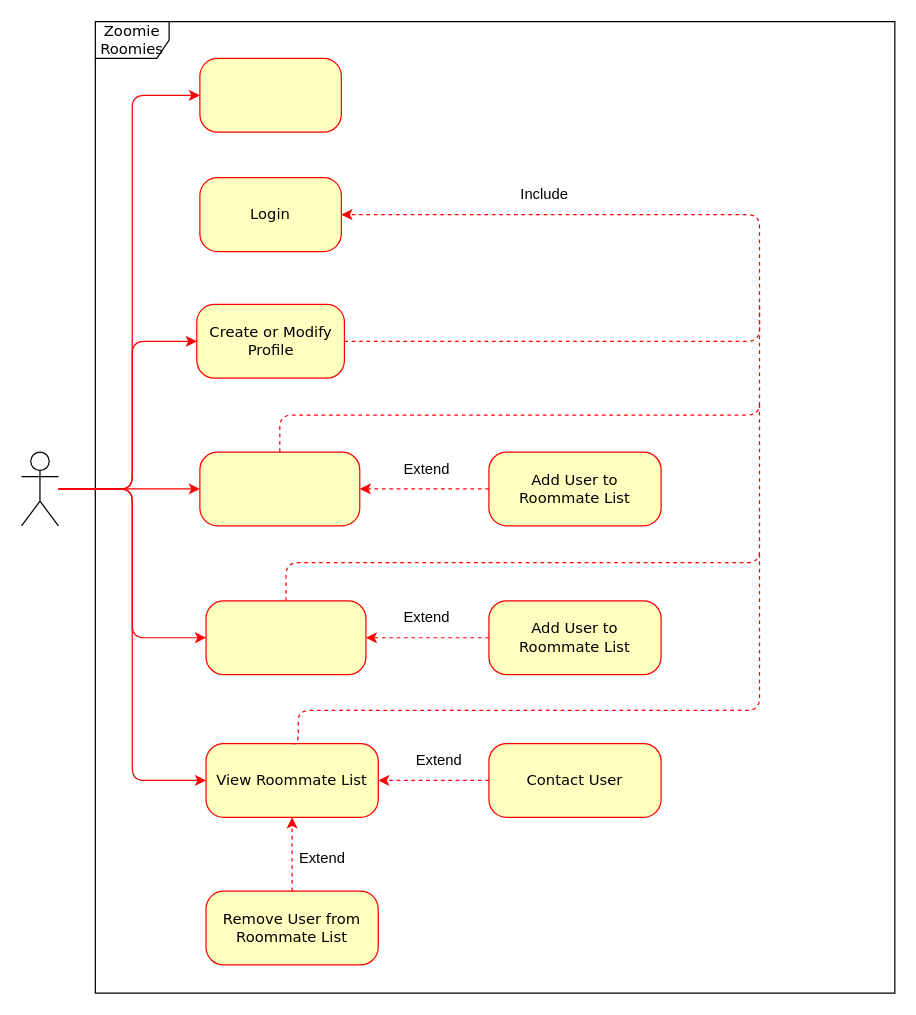
The diagram is 916 pixels wide and 1015 high, and some of its shapes have lost their labels. The shapes that lost their labels are listed below. From the top down, each one's centre as x and y in pixels, then its label:
point 270,94: Register Account
point 39,488: User
point 279,488: Search for Roommates
point 285,637: View Recommended Roommates
